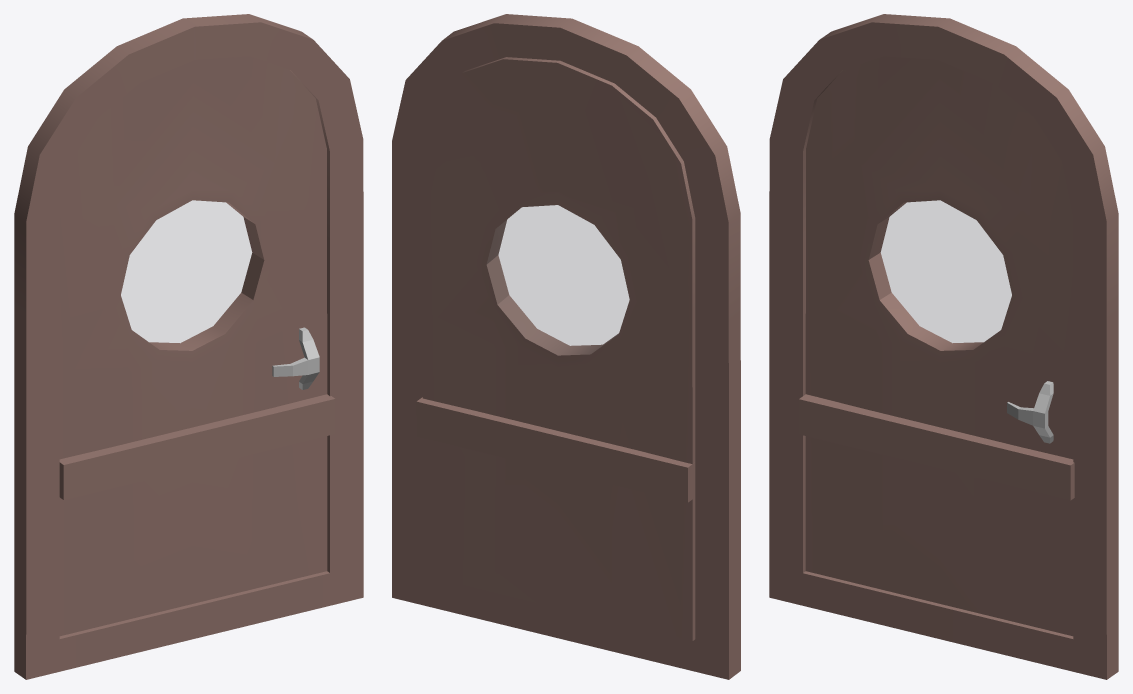
Rendered from Atelier_house_arc_interior_door.fbx.
The picture shows the model from 3 angles, left to right: view 1: azimuth 30°, elevation 25°; view 2: azimuth 150°, elevation 25°; view 3: azimuth 330°, elevation 25°; orthographic projection.
Visible parts, largest first — view 1: Atelier_house_arc_interior_door; view 2: Atelier_house_arc_interior_door; view 3: Atelier_house_arc_interior_door.
Part boxes in pixels (x1=…): Atelier_house_arc_interior_door: x1=14, y1=14, x2=363, y2=679; Atelier_house_arc_interior_door: x1=392, y1=14, x2=740, y2=679; Atelier_house_arc_interior_door: x1=769, y1=14, x2=1118, y2=679.
Size of the model in its own units: 148 by 257 by 21.9.
3 materials, 1 textured.
